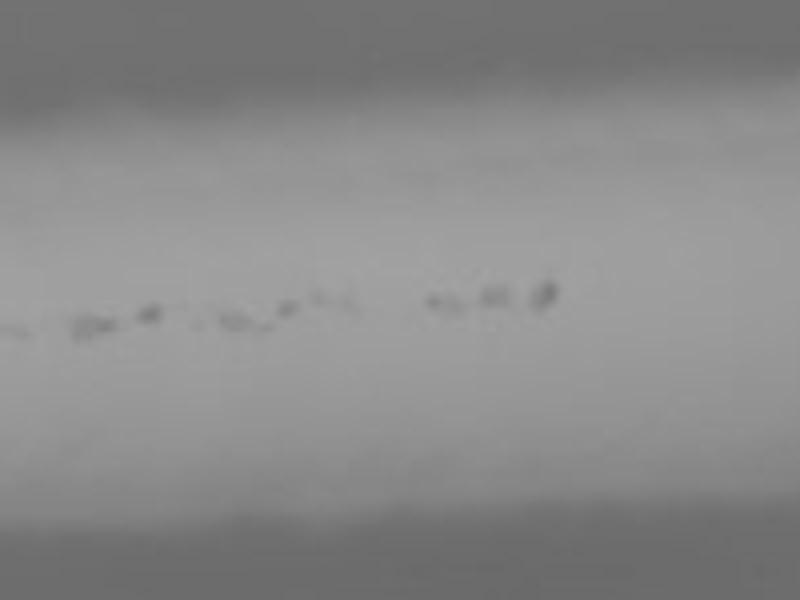defect: (527, 277, 560, 310), (479, 282, 509, 312), (137, 304, 161, 328), (221, 311, 243, 333), (74, 316, 95, 337), (278, 298, 299, 319), (6, 319, 26, 339), (307, 286, 326, 305), (95, 317, 113, 335), (423, 292, 441, 310), (187, 316, 203, 332), (259, 320, 272, 333)
